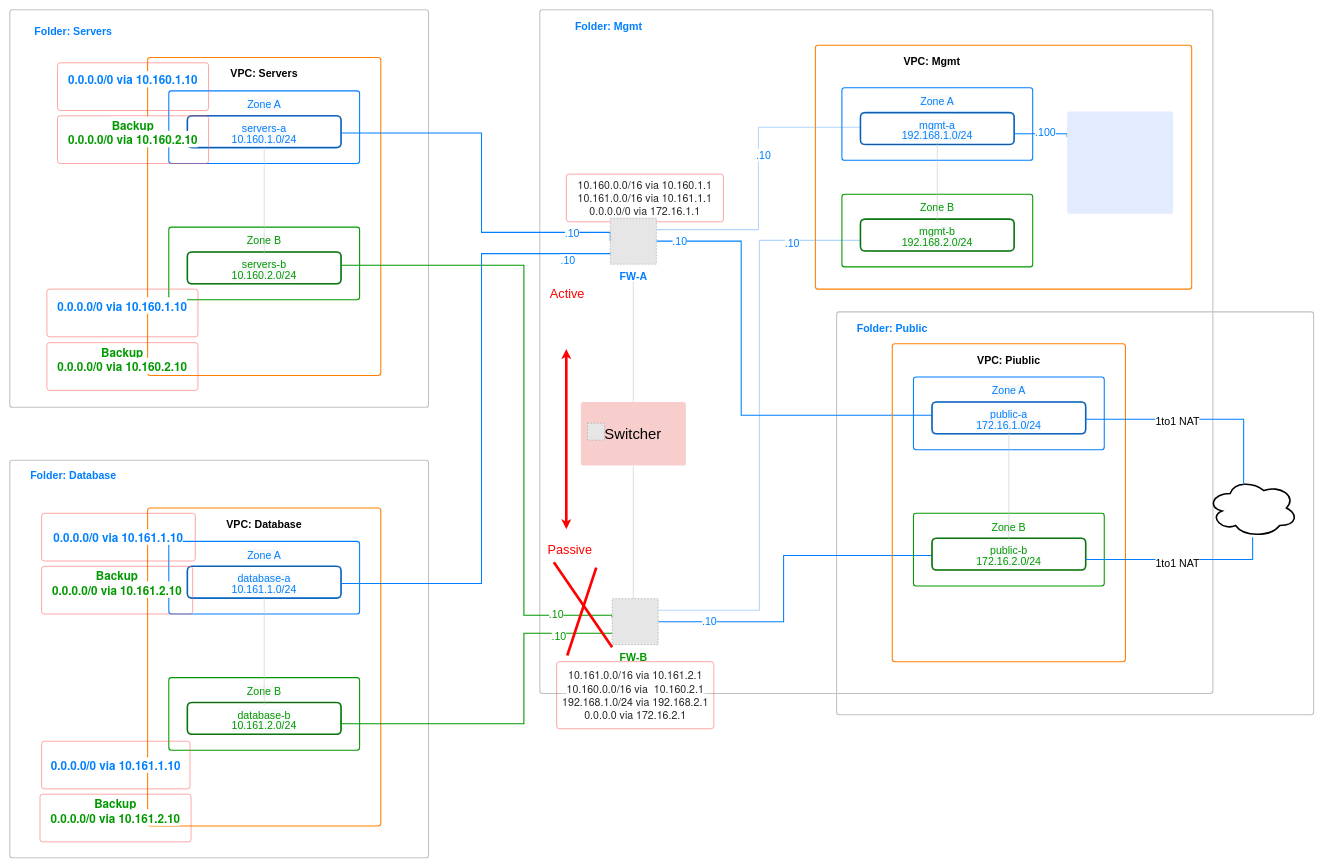
Image size: 1323x867. Some labels were removed from this diagram. Grey dashed boxes stand in for pictures. The centre of each missing label's shape, as x and y in pixels:
Inet: point 1252,508
mgmt-server: point 1120,162
